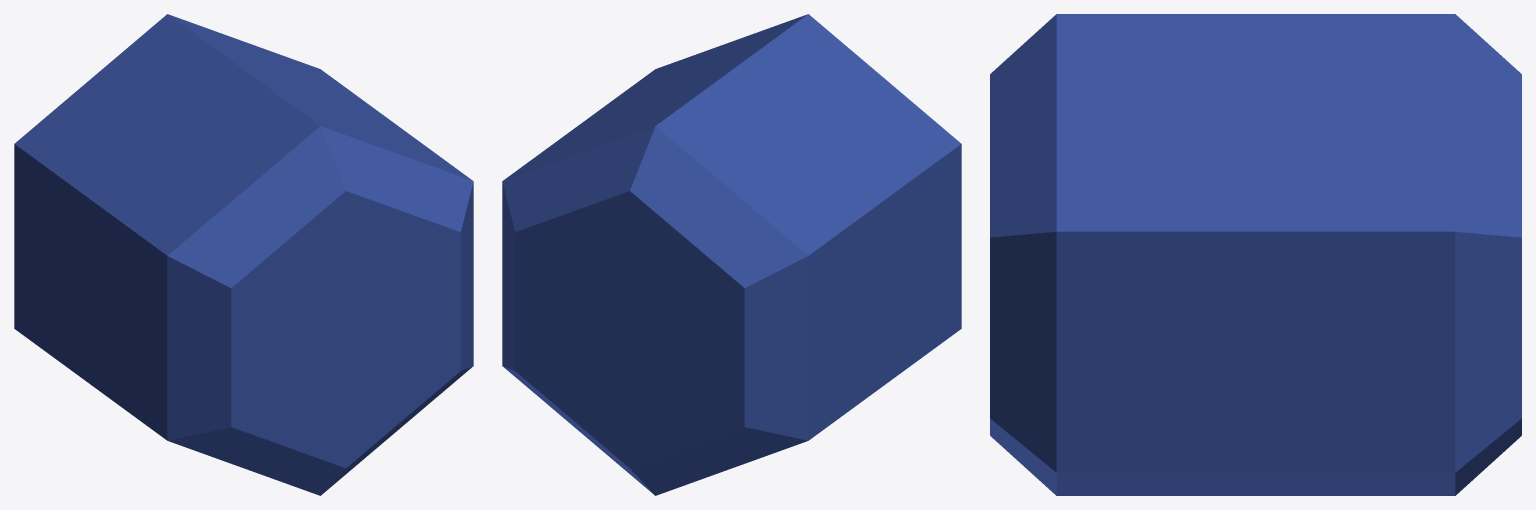
The model's file is tinker.obj.
3 views of the same model, side by side, from view 1: azimuth 30°, elevation 25°; view 2: azimuth 150°, elevation 25°; view 3: azimuth 270°, elevation 25° (orthographic). The views are drawn at different scales.
Visible parts, largest first — view 1: obj_0; view 2: obj_0; view 3: obj_0.
Boxes of the visible parts, x1,y1,x2,y2 form: obj_0: (14, 14, 473, 495); obj_0: (502, 14, 961, 495); obj_0: (990, 14, 1521, 495).
Size of the model in its own units: 17.32 by 20 by 20.
